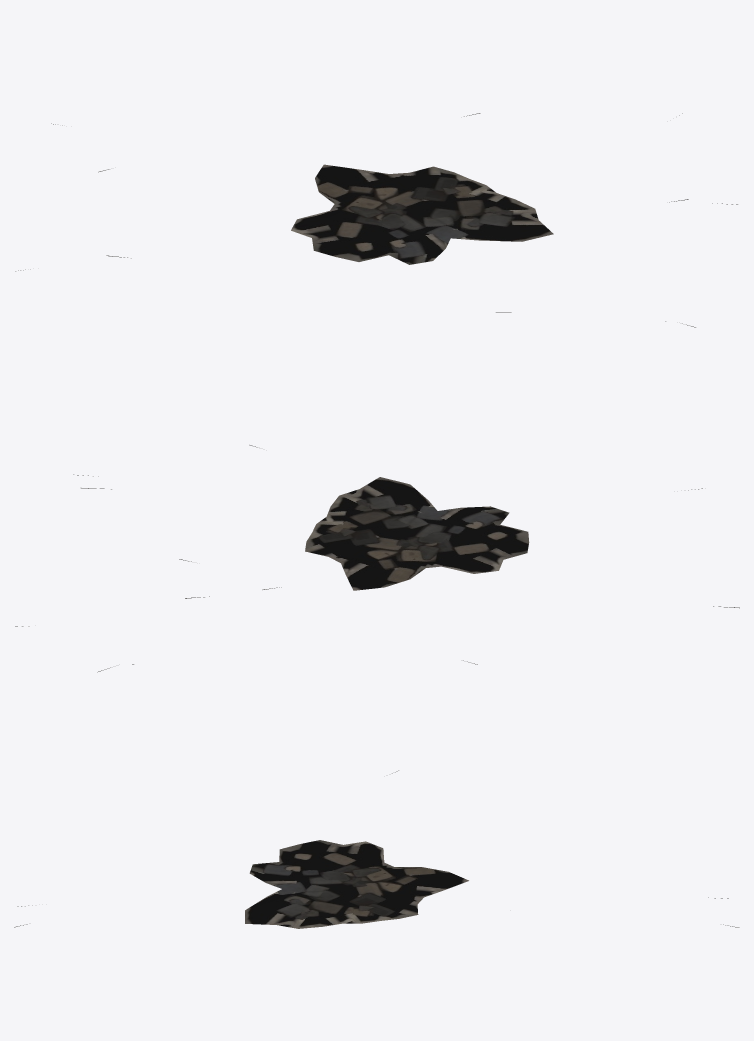
The model's file is decal_cracks.glb.
The picture shows the model from 3 angles, top to bottom: view 1: azimuth 30°, elevation 25°; view 2: azimuth 150°, elevation 25°; view 3: azimuth 270°, elevation 25°; orthographic projection. The views are drawn at different scales.
Parts seen in each view (by area): view 1: decal_cracks; view 2: decal_cracks; view 3: decal_cracks.
Boxes of the visible parts, box(x1,y1,x2,y2) form: decal_cracks: box(15, 113, 737, 327); decal_cracks: box(15, 445, 739, 672); decal_cracks: box(14, 770, 739, 928).
Bounding box in the file's own units: 1.61 × 0.0025 × 1.69.
Materials: 1 (1 with a texture image).
